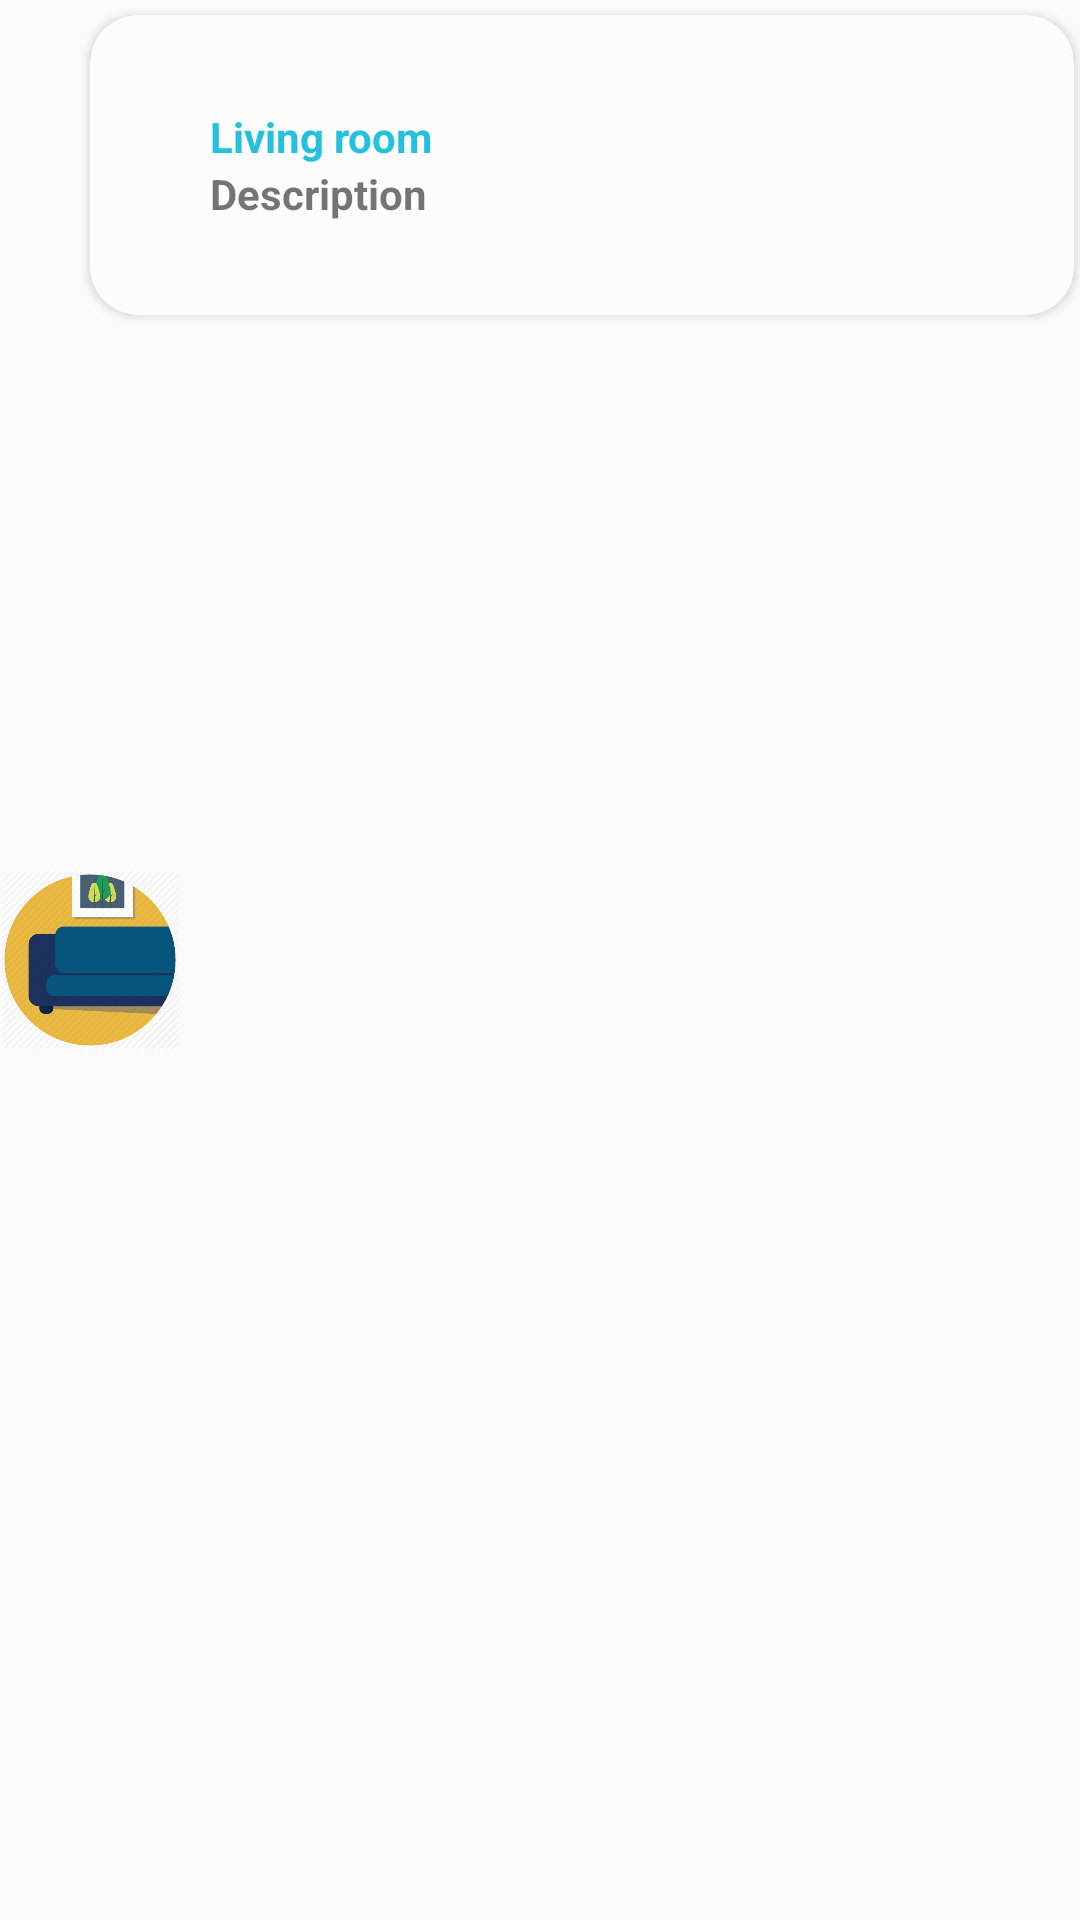

Named icons in this screenshot (1080 x 1920) and their bounding boxes, (x1, y1, x2, y2):
living room: (4, 874, 176, 1046)
